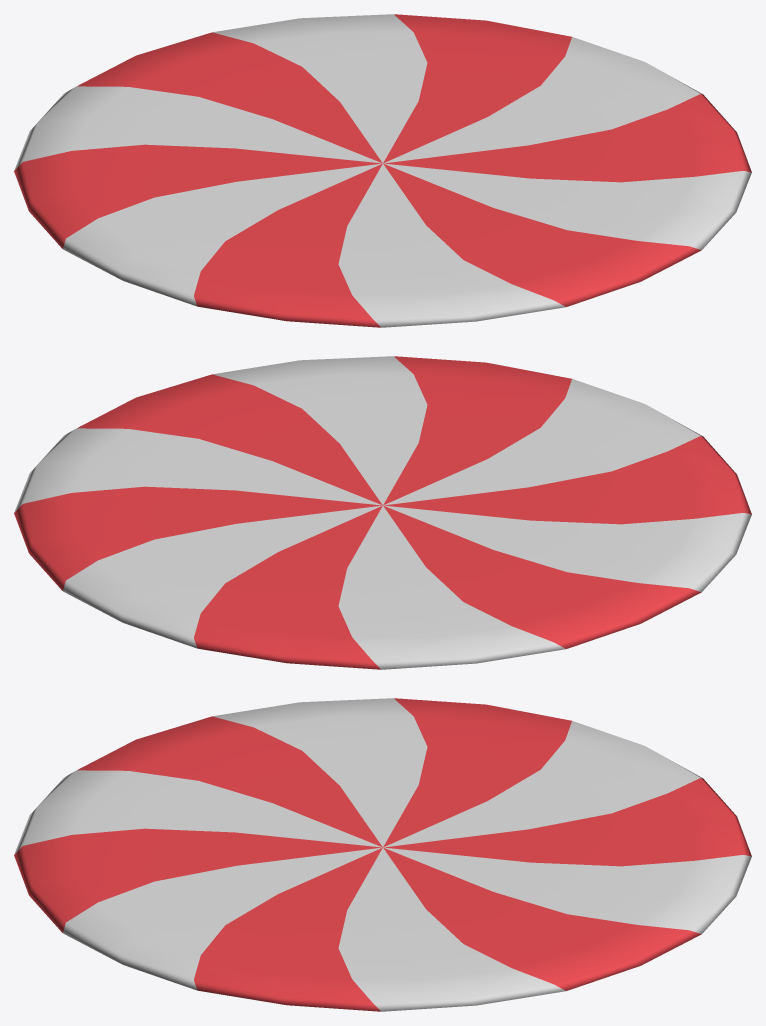
The model's file is Hard  candy carpet 1.fbx.
The picture shows the model from 3 angles, top to bottom: view 1: azimuth 30°, elevation 25°; view 2: azimuth 150°, elevation 25°; view 3: azimuth 270°, elevation 25°; orthographic projection.
Parts seen in each view (by area): view 1: Circle; view 2: Circle; view 3: Circle.
Part boxes in pixels (<box>): Circle: <box>14,14,751,327</box>; Circle: <box>14,356,751,669</box>; Circle: <box>14,698,751,1011</box>.
Size of the model in its own units: 774 by 18.87 by 774.
